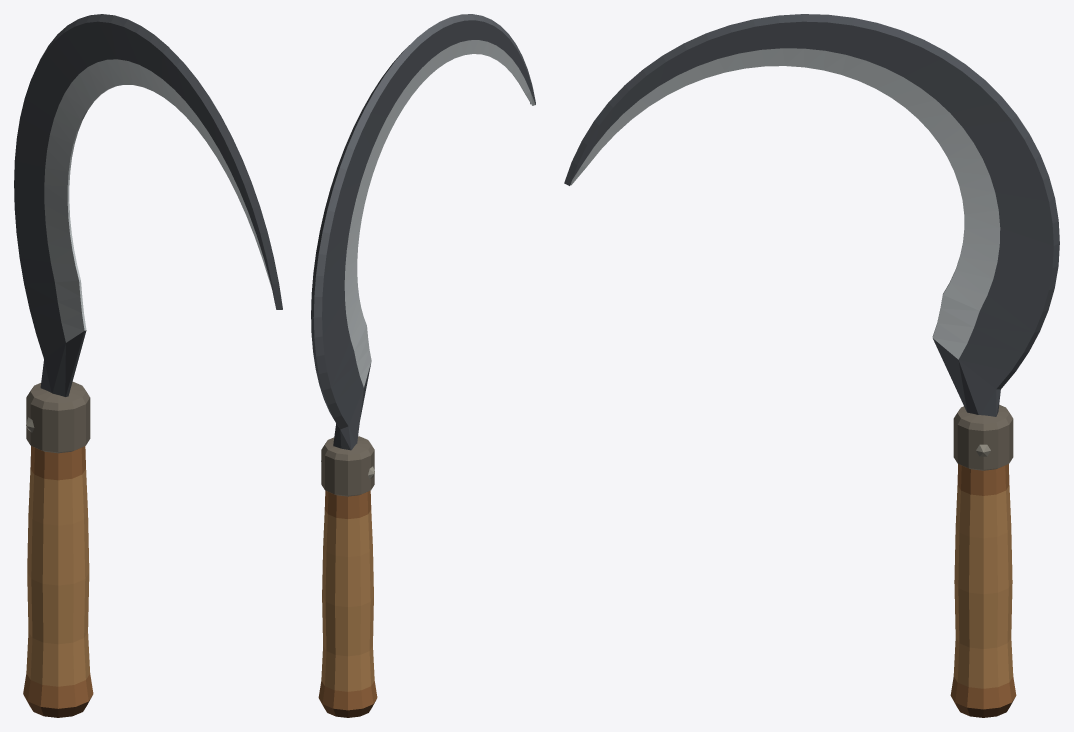
Rendered from Player_Sickle.fbx.
The picture shows the model from 3 angles, left to right: view 1: azimuth 30°, elevation 25°; view 2: azimuth 150°, elevation 25°; view 3: azimuth 270°, elevation 25°; orthographic projection. The views are drawn at different scales.
Parts seen in each view (by area): view 1: Player_Sickle; view 2: Player_Sickle; view 3: Player_Sickle.
Boxes of the visible parts, x1,y1,x2,y2 form: Player_Sickle: (14,14,282,717); Player_Sickle: (311,14,535,717); Player_Sickle: (564,14,1059,717).
Bounding box in the file's own units: 0.0454 × 0.5 × 0.3244.
Materials: 1 (1 with a texture image).
